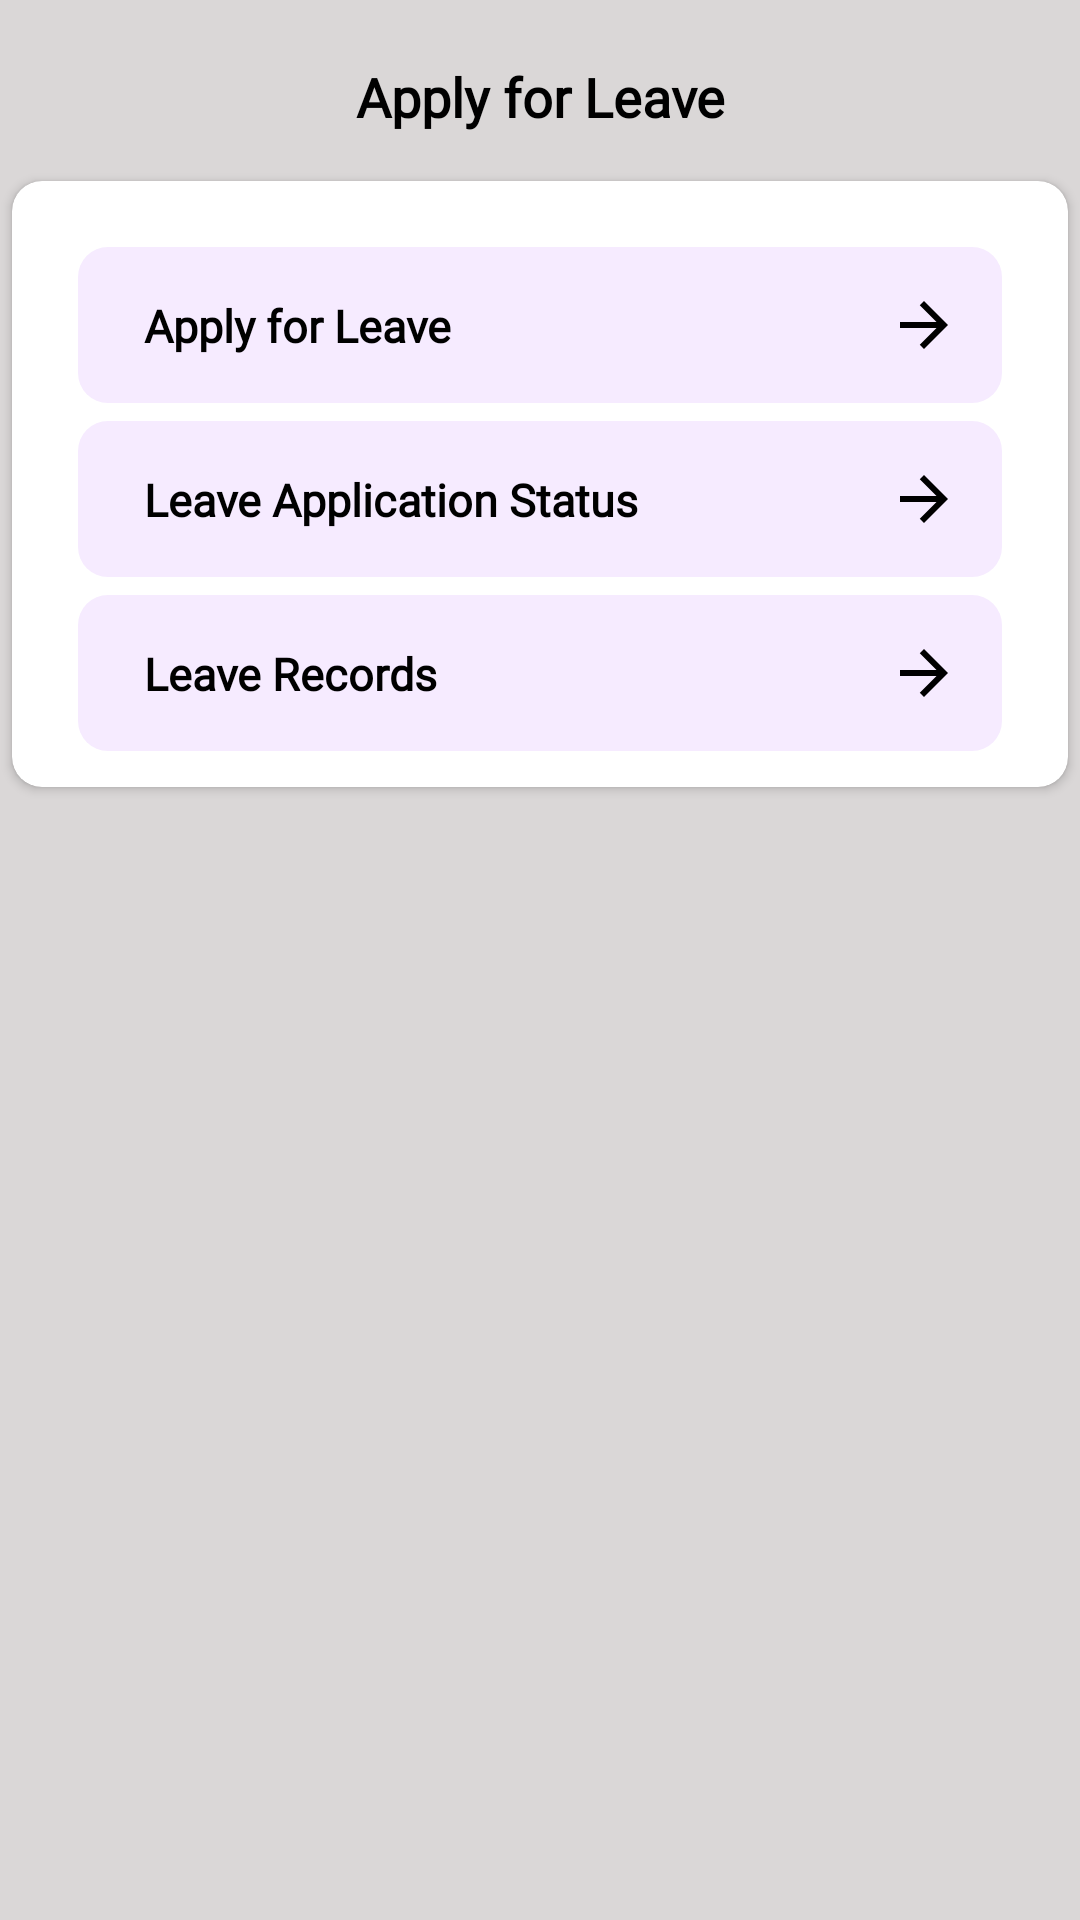

Point at icon controls on the screen. Image size 1080px×1920px, points as (x,y).
arrow forward: (924,325), (924,499), (924,673)
